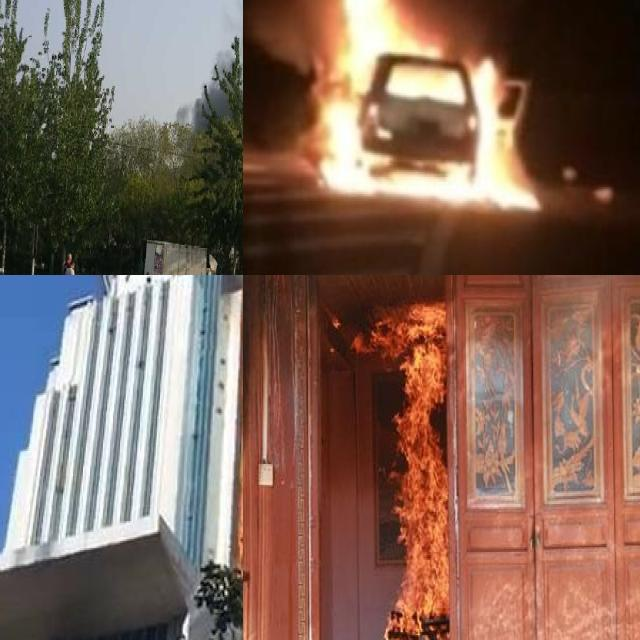fire: (314, 0, 542, 216), (364, 308, 456, 640)
